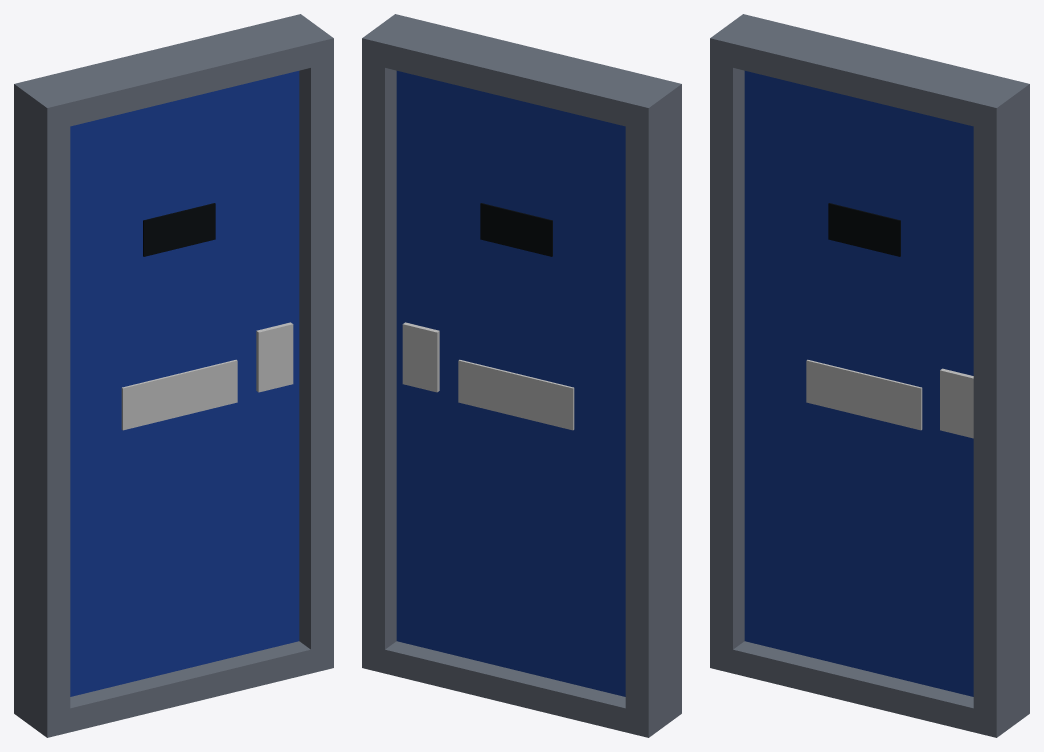
File: justice.prison.cell_door.glb
3 renders of one model, left to right at view 1: azimuth 30°, elevation 25°; view 2: azimuth 150°, elevation 25°; view 3: azimuth 330°, elevation 25°, orthographic.
Visible parts, largest first — view 1: leaf__plastic_blue, frame__steel_painted, leaf__steel_stainless, leaf__glass_dark; view 2: leaf__plastic_blue, frame__steel_painted, leaf__steel_stainless, leaf__glass_dark; view 3: leaf__plastic_blue, frame__steel_painted, leaf__steel_stainless, leaf__glass_dark.
Boxes of the visible parts, x1,y1,x2,y2 form: leaf__plastic_blue: (70, 71, 299, 696); frame__steel_painted: (14, 14, 333, 737); leaf__steel_stainless: (121, 322, 293, 430); leaf__glass_dark: (143, 203, 215, 256); leaf__plastic_blue: (396, 71, 625, 696); frame__steel_painted: (362, 14, 681, 737); leaf__steel_stainless: (402, 322, 574, 430); leaf__glass_dark: (480, 203, 552, 256); leaf__plastic_blue: (744, 71, 973, 696); frame__steel_painted: (710, 14, 1029, 737); leaf__steel_stainless: (806, 359, 973, 438); leaf__glass_dark: (828, 203, 900, 256).
Size of the model in its own units: 1 by 2.1 by 0.2.
